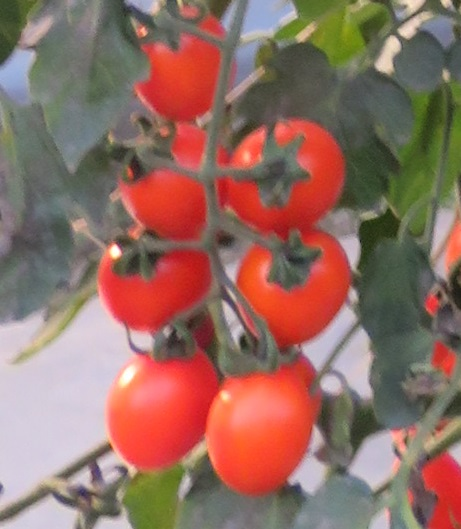orange: (207, 366, 312, 501), (235, 224, 354, 340), (230, 119, 356, 228)
red: (93, 336, 210, 473), (118, 123, 227, 233), (135, 10, 241, 119), (98, 226, 217, 323)
